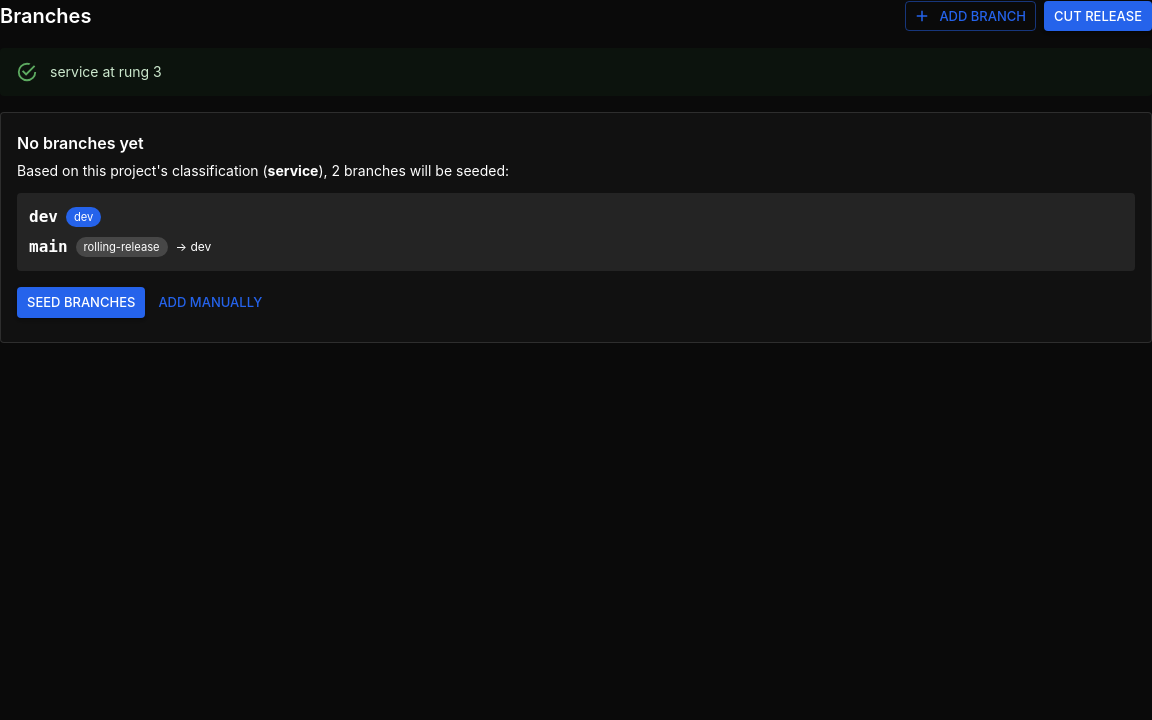
it: Empty-state seed preview (TK-1674) › Add manually button on seed card opens AddBranchDialog
Click the button with test id "empty-state-add-manually": (210, 302) [153, 287, 267, 318]
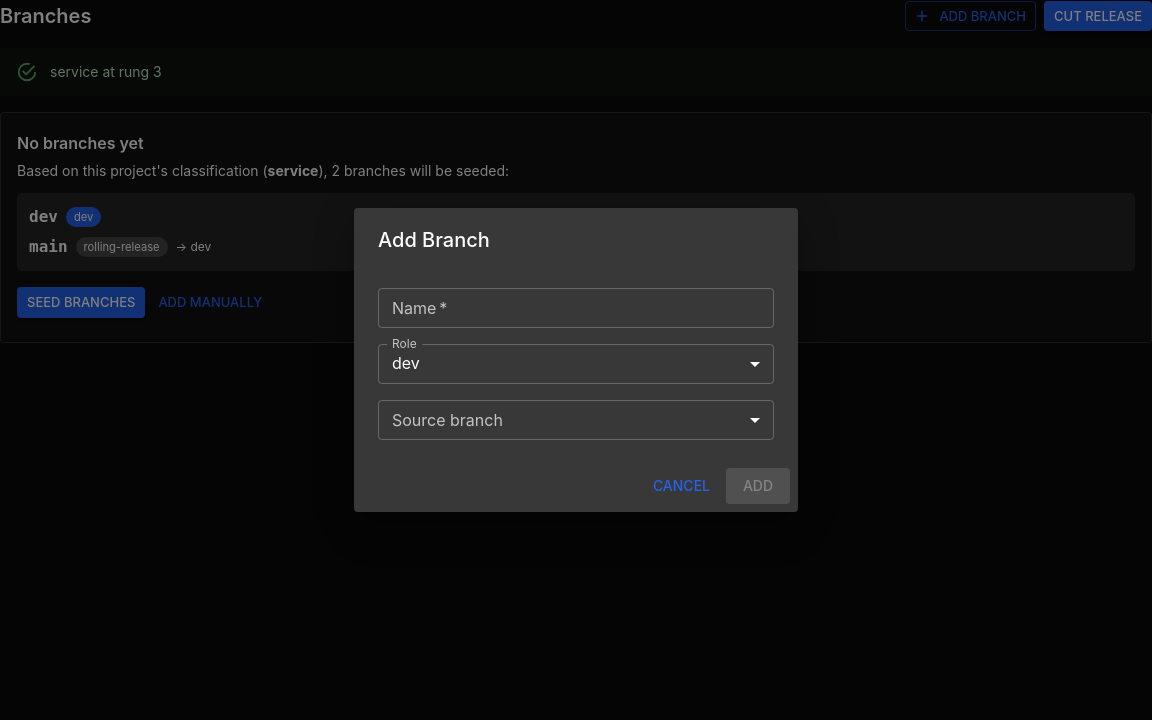
Check: the element with test id "add-branch-name" is shown, box [378, 288, 774, 328]
Check: the button with test id "add-branch-submit" is shown, box [726, 468, 790, 504]
